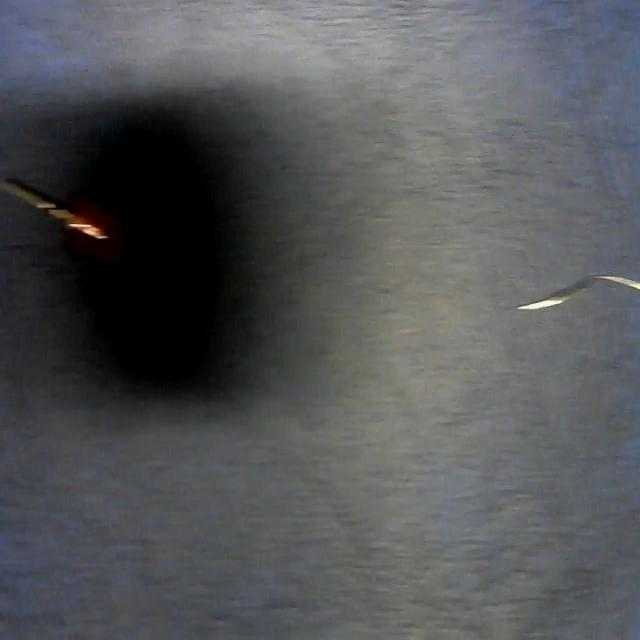LED: (4, 164, 125, 280)
